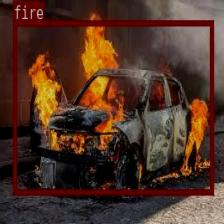fire: (13, 20, 213, 194)
